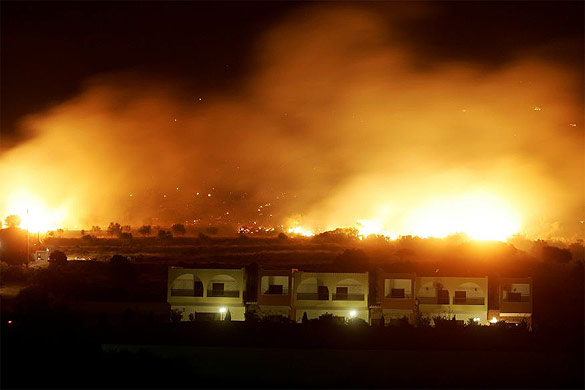fire: (300, 182, 560, 256), (1, 173, 104, 247)
